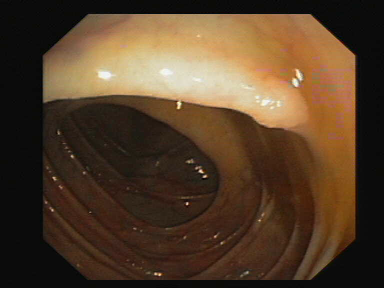polyp: (224, 44, 327, 150)
